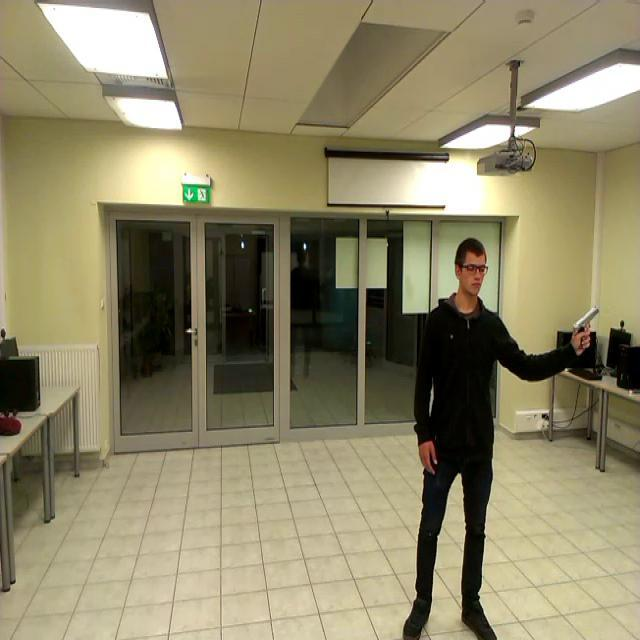Gun: (574, 305, 600, 348)
